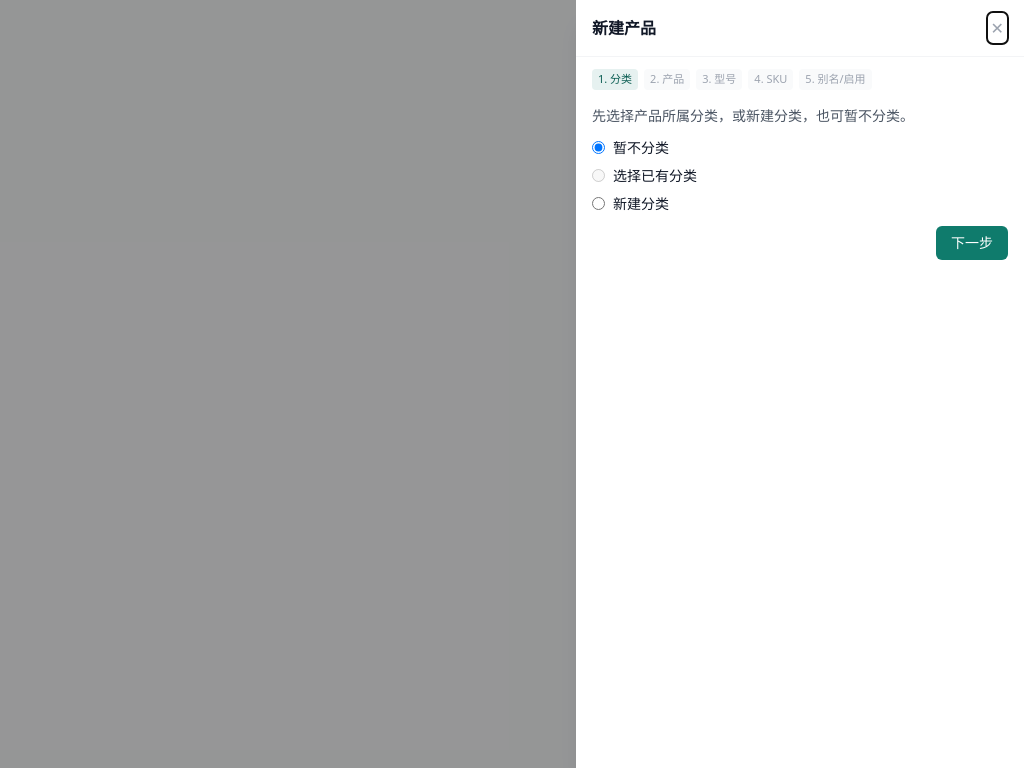
Test: CreateWizard › 产品名为空时创建按钮禁用
Click the button with test id "wizard-next-category" at coordinates (972, 242), box [936, 226, 1008, 260]
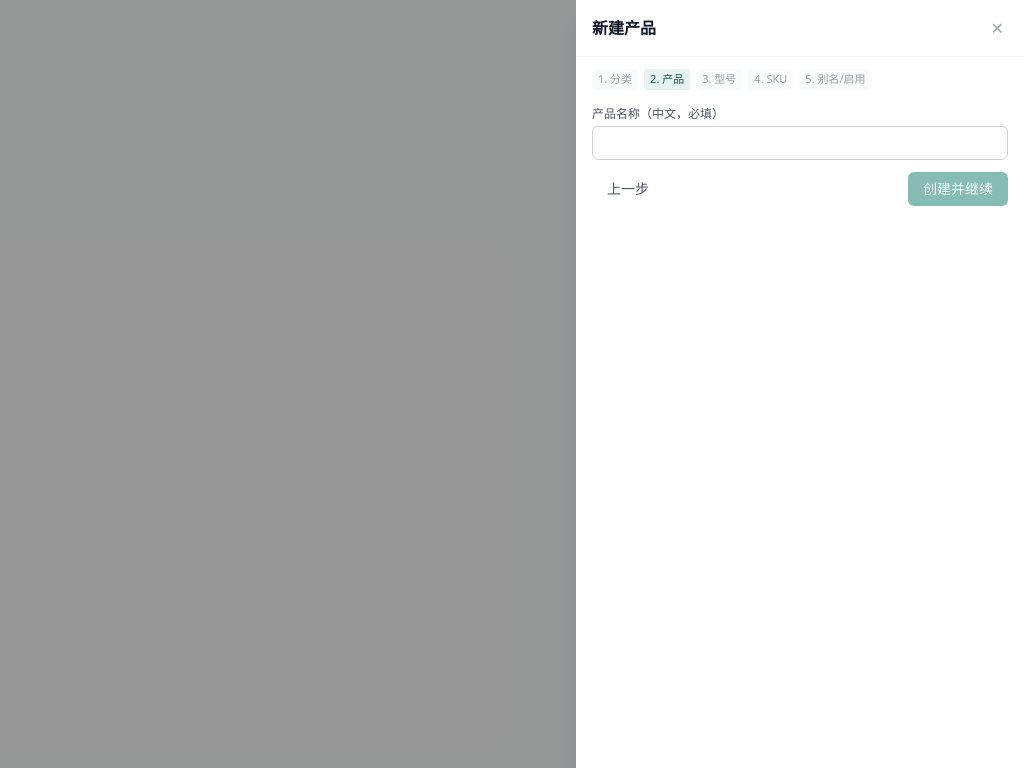
expect the button with test id "wizard-next-family" is disabled: met, box [908, 172, 1008, 206]
